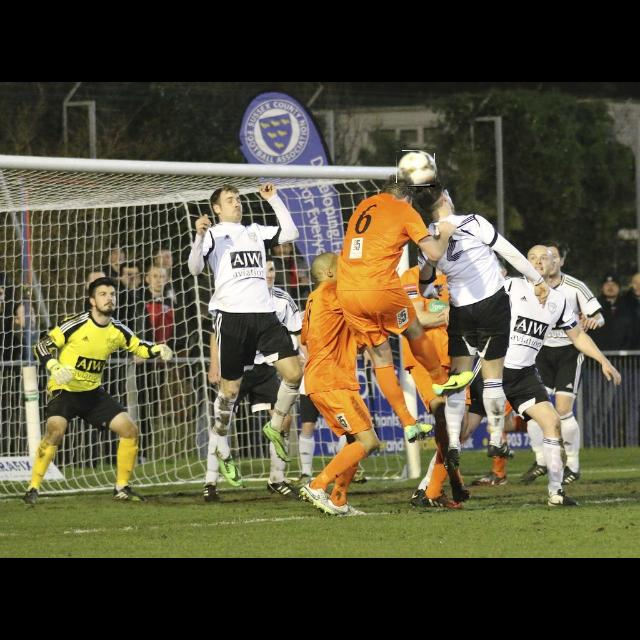Football: (397, 151, 435, 187)
